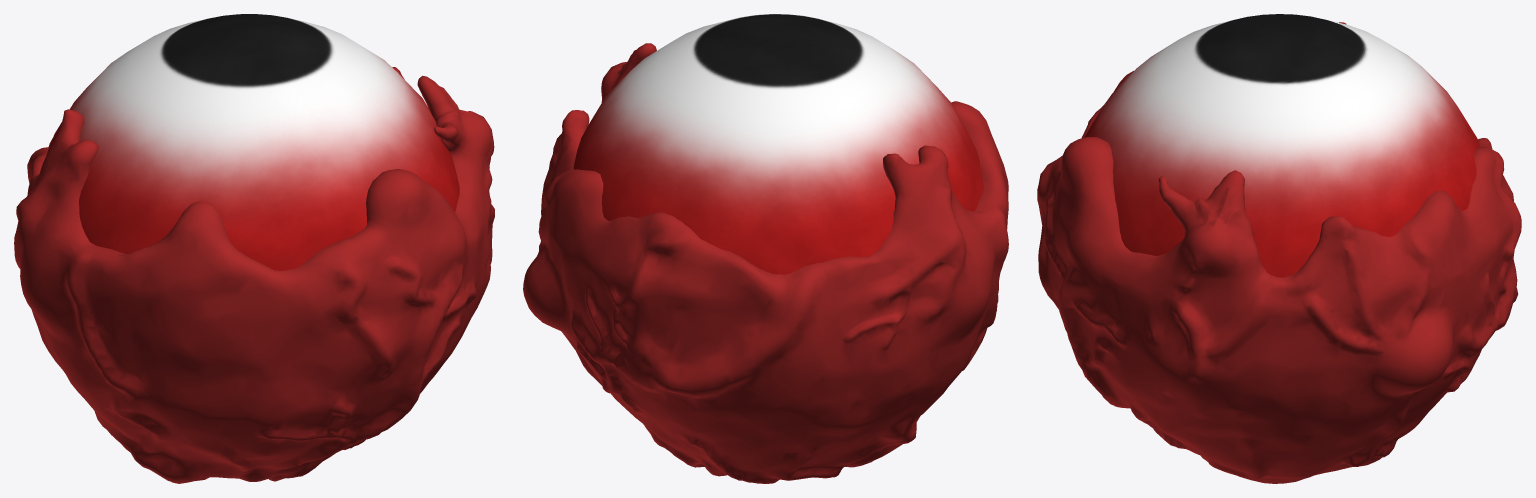
Rendered from RedEyeBall.glb.
3 views of the same model, side by side, from view 1: azimuth 30°, elevation 25°; view 2: azimuth 150°, elevation 25°; view 3: azimuth 270°, elevation 25° (orthographic).
Parts seen in each view (by area): view 1: Eye, Eyeball; view 2: Eye, Eyeball; view 3: Eye, Eyeball.
Boxes of the visible parts, <box> form: Eye: <box>14,67,494,483</box>; Eyeball: <box>46,14,459,270</box>; Eye: <box>523,43,1008,483</box>; Eyeball: <box>573,14,983,274</box>; Eye: <box>1037,22,1521,483</box>; Eyeball: <box>1084,14,1480,277</box>.
Size of the model in its own units: 0.4106 by 0.4024 by 0.4078.
Materials: 2 (1 with a texture image).
